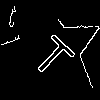T: (28, 27, 83, 81)
